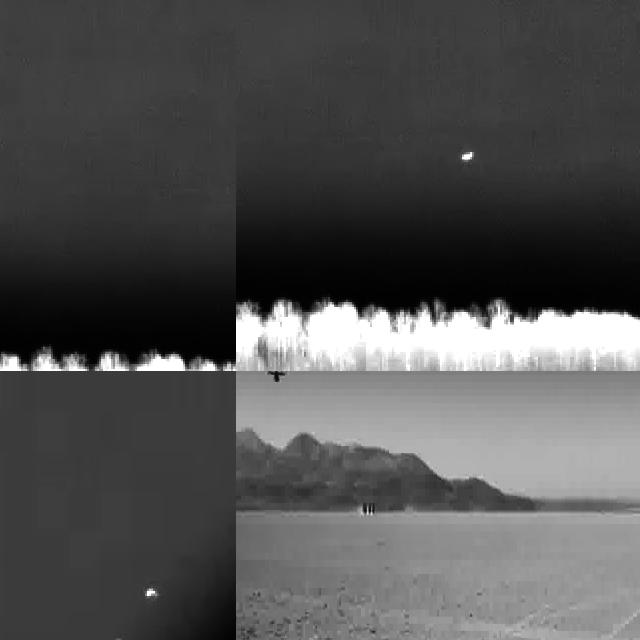0: (137, 581, 163, 609), (107, 631, 133, 640)
1: (449, 147, 479, 169)
drone: (267, 371, 287, 388)
